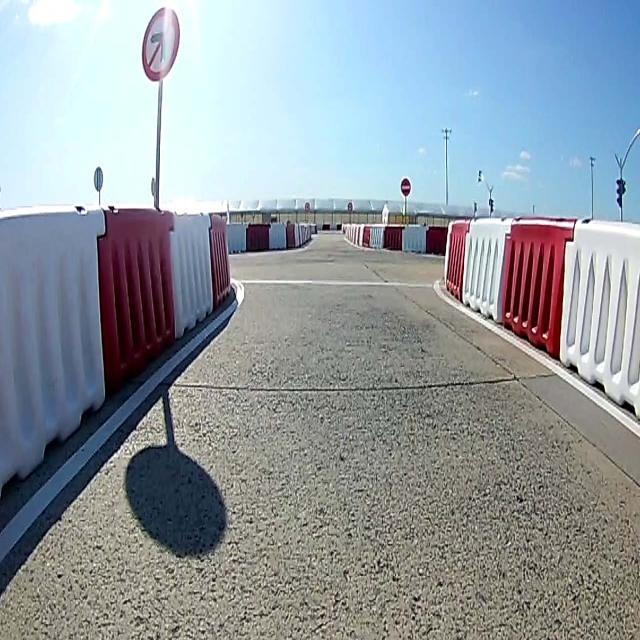girisyok: (401, 177, 411, 196)
soladonulmez: (142, 6, 180, 82)
